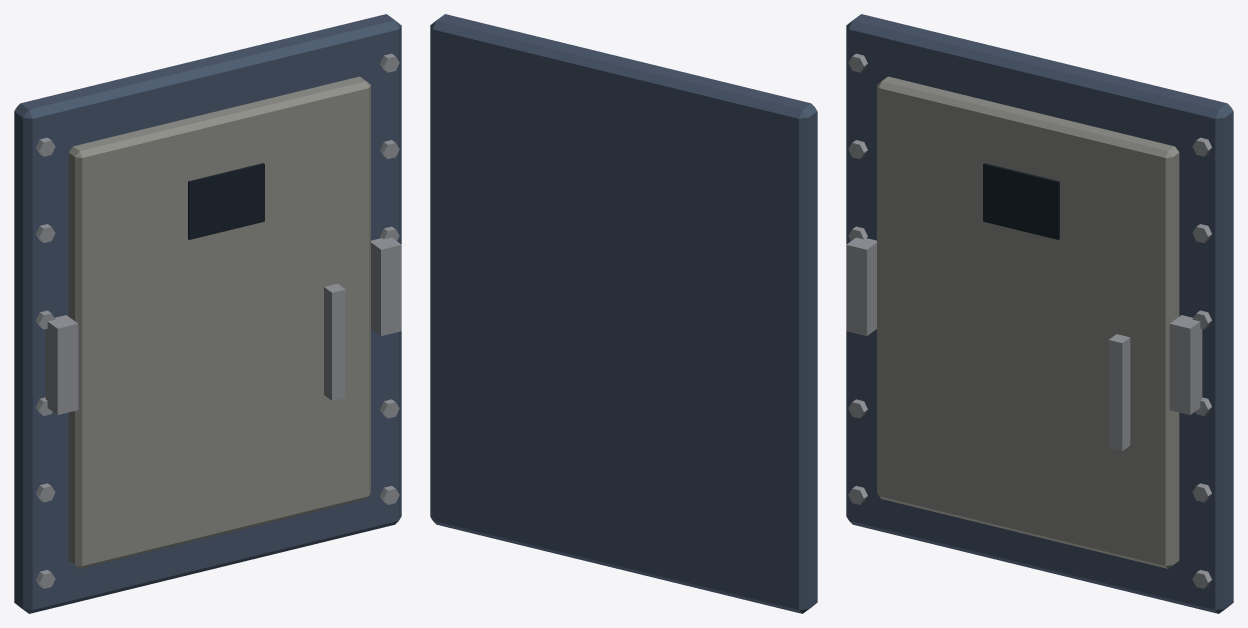
The model's file is kz6_hatch.obj.
3 views of the same model, side by side, from view 1: azimuth 30°, elevation 25°; view 2: azimuth 150°, elevation 25°; view 3: azimuth 330°, elevation 25° (orthographic).
Parts seen in each view (by area): view 1: kz6_hatch; view 2: kz6_hatch; view 3: kz6_hatch.
Part boxes in pixels (<box>): kz6_hatch: <box>14,14,401,613</box>; kz6_hatch: <box>430,14,817,613</box>; kz6_hatch: <box>846,14,1233,613</box>.
Size of the model in its own units: 1.1 by 1.4 by 0.18.
